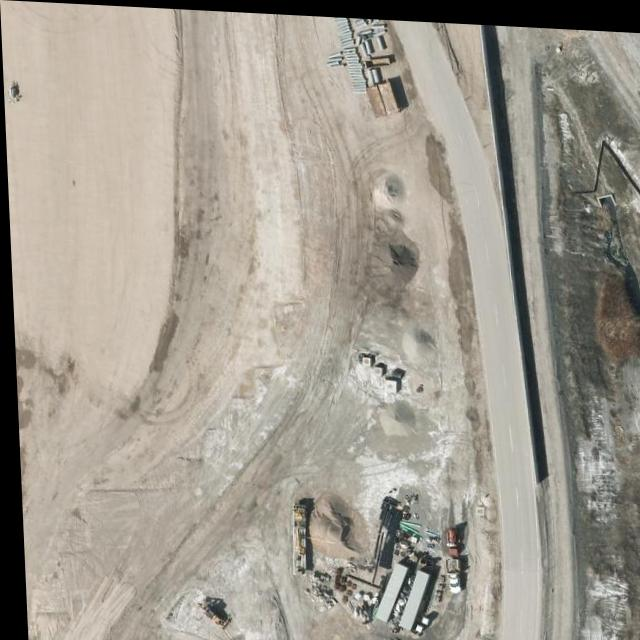vehicle: (440, 554, 461, 592)
